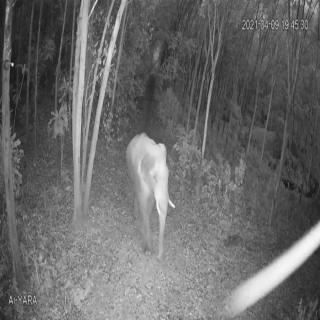Elephant: (122, 129, 179, 264)
